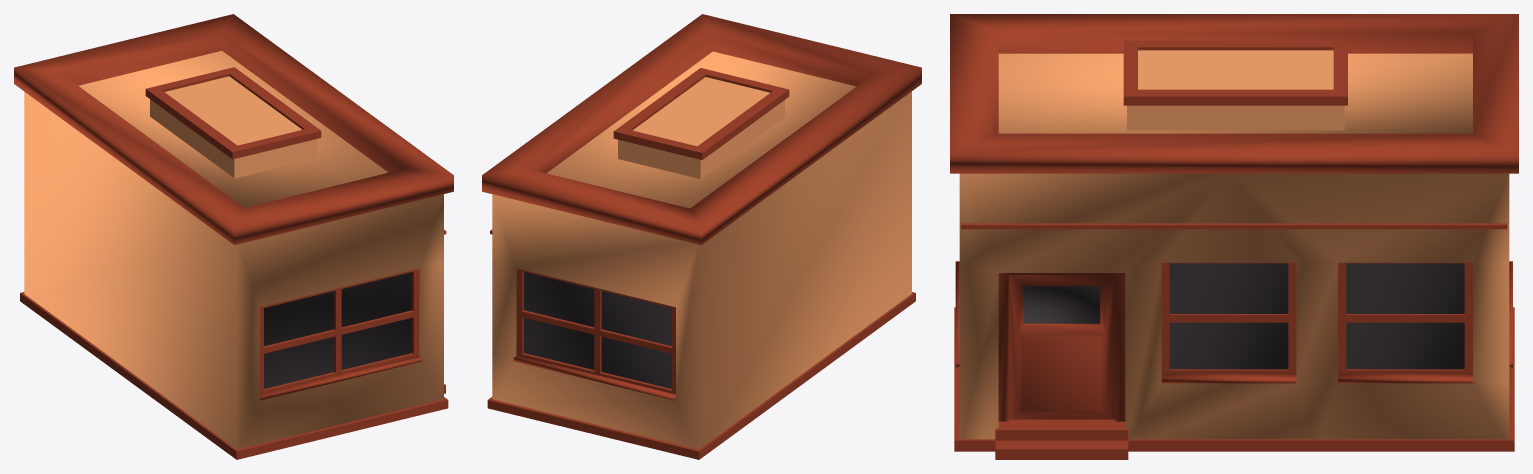
The model's file is shop_c_low.glb.
The picture shows the model from 3 angles, left to right: view 1: azimuth 30°, elevation 25°; view 2: azimuth 150°, elevation 25°; view 3: azimuth 270°, elevation 25°; orthographic projection. The views are drawn at different scales.
Parts seen in each view (by area): view 1: shop_c_low; view 2: shop_c_low; view 3: shop_c_low.
Boxes of the visible parts, box(x1,y1,x2,y2) form: shop_c_low: box(14, 14, 453, 459); shop_c_low: box(482, 14, 921, 459); shop_c_low: box(950, 14, 1518, 459).
Size of the model in its own units: 4.32 by 4.41 by 7.19.
Materials: 1 (1 with a texture image).
